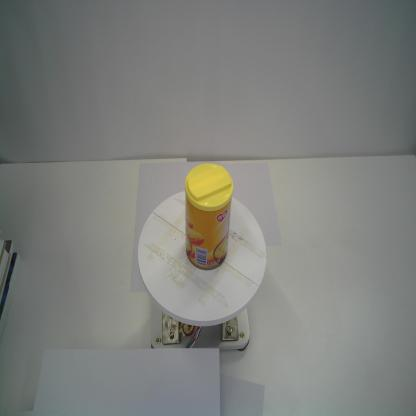Canned Food: (184, 162, 233, 271)
